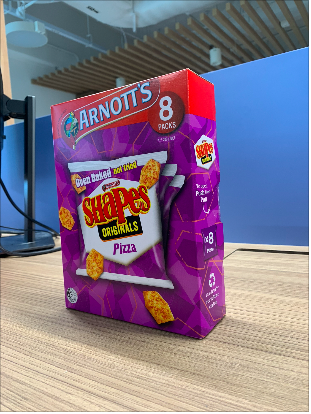Crackers_200-299g: (58, 108, 211, 317)
